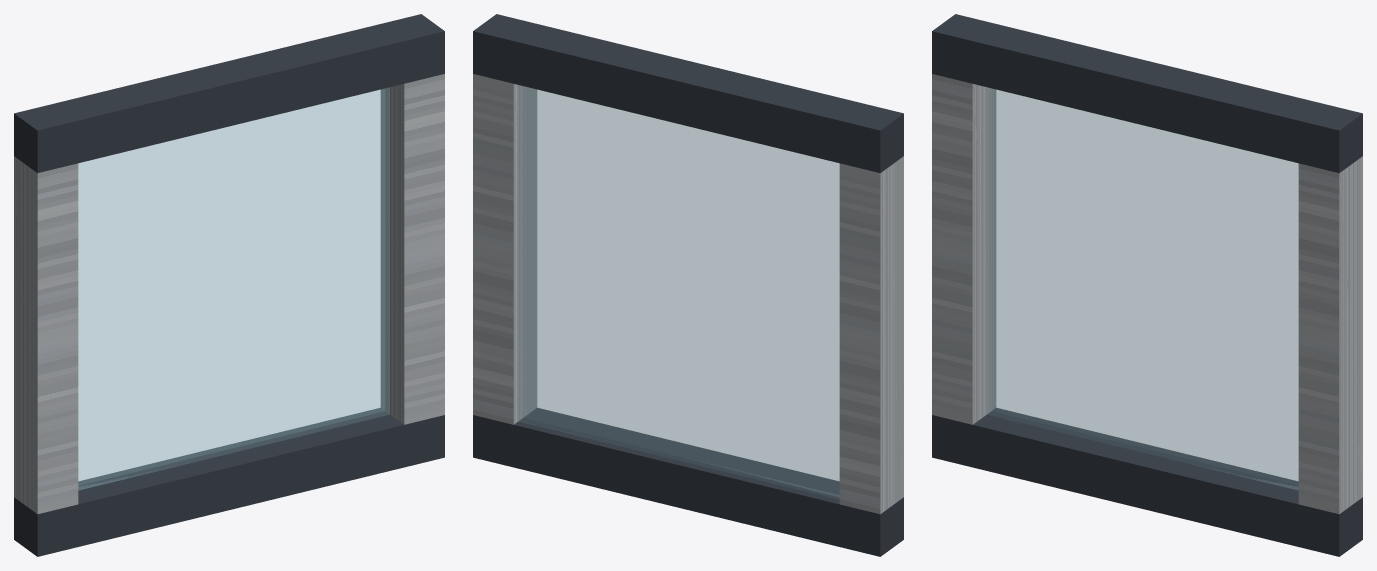
File: glass-1x1.glb
3 renders of one model, left to right at view 1: azimuth 30°, elevation 25°; view 2: azimuth 150°, elevation 25°; view 3: azimuth 330°, elevation 25°, orthographic.
Parts seen in each view (by area): view 1: Glass1x1; view 2: Glass1x1; view 3: Glass1x1.
Part boxes in pixels (bbox=[...]): Glass1x1: bbox=[14, 14, 444, 556]; Glass1x1: bbox=[473, 14, 903, 556]; Glass1x1: bbox=[932, 14, 1362, 556].
Bounding box in the file's own units: 1 × 1 × 0.1.
3 materials, 1 textured.
